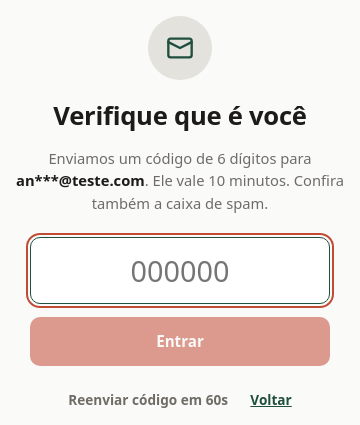
Test case: RN17 - Verificação em Duas Etapas › o campo aceita só números e no máximo 6 dígitos
Type "12a3-4567" into the field named "Código" at (180, 271), box [30,237,330,304]
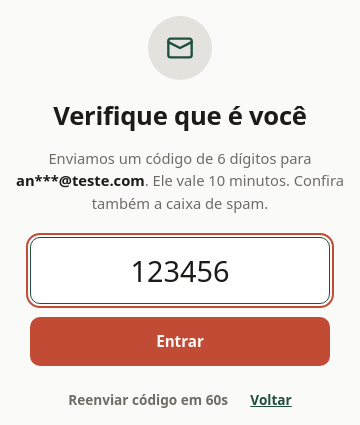
Check: the field named "Código" holds "123456", box [30,237,330,304]
